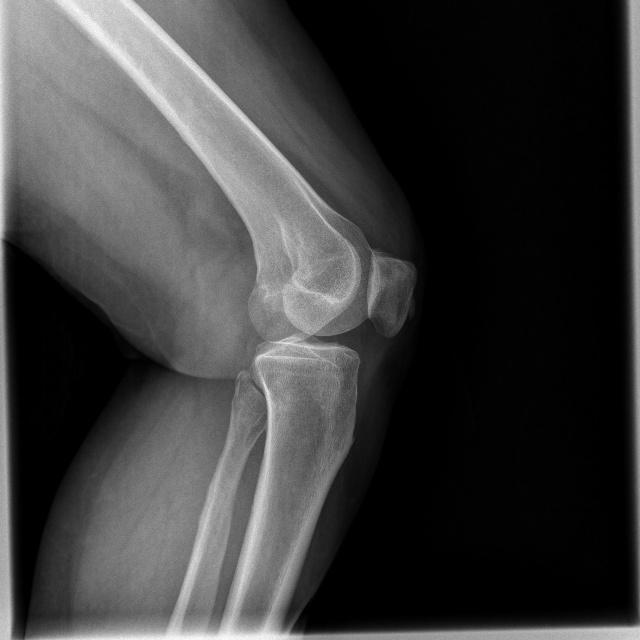Knee: (238, 250, 420, 398)
